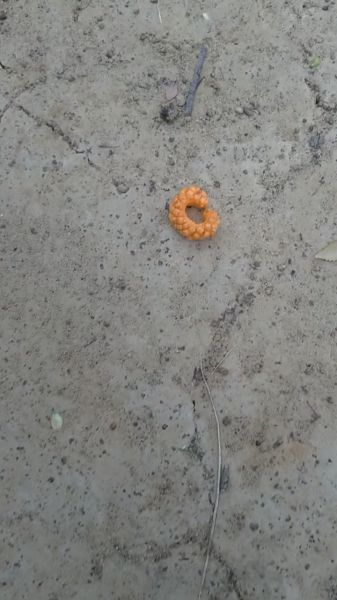eggs: (164, 180, 223, 246)
